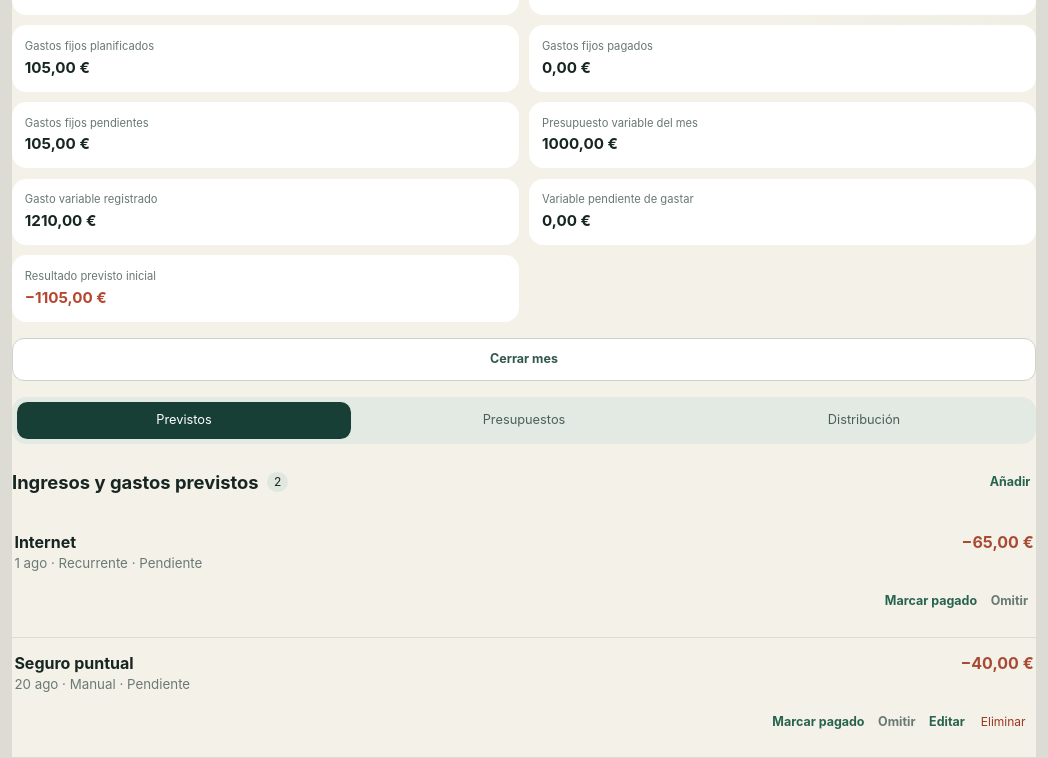
Test: PlanView › states the exceeded amount without relying only on the progress color
This screenshot has width=1048, height=758.
(page scrolled)
Click the button "Presupuestos": (524, 420) [357,402,691,439]
(page scrolled)
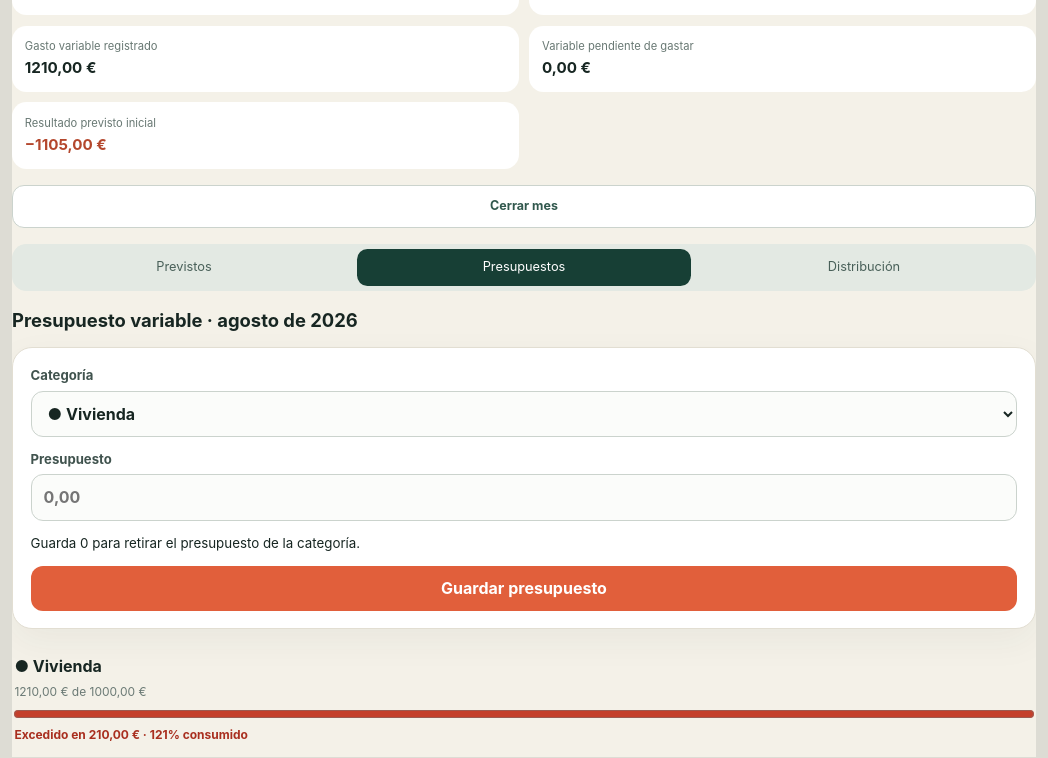
Check: the text "Excedido en 210,00 € · 121% consumido" is shown, box [14,728,248,742]
Check: the progress indicator named "Presupuesto excedido en 210,00 €; 121% consumido" holds "100", box [14,706,1034,722]
